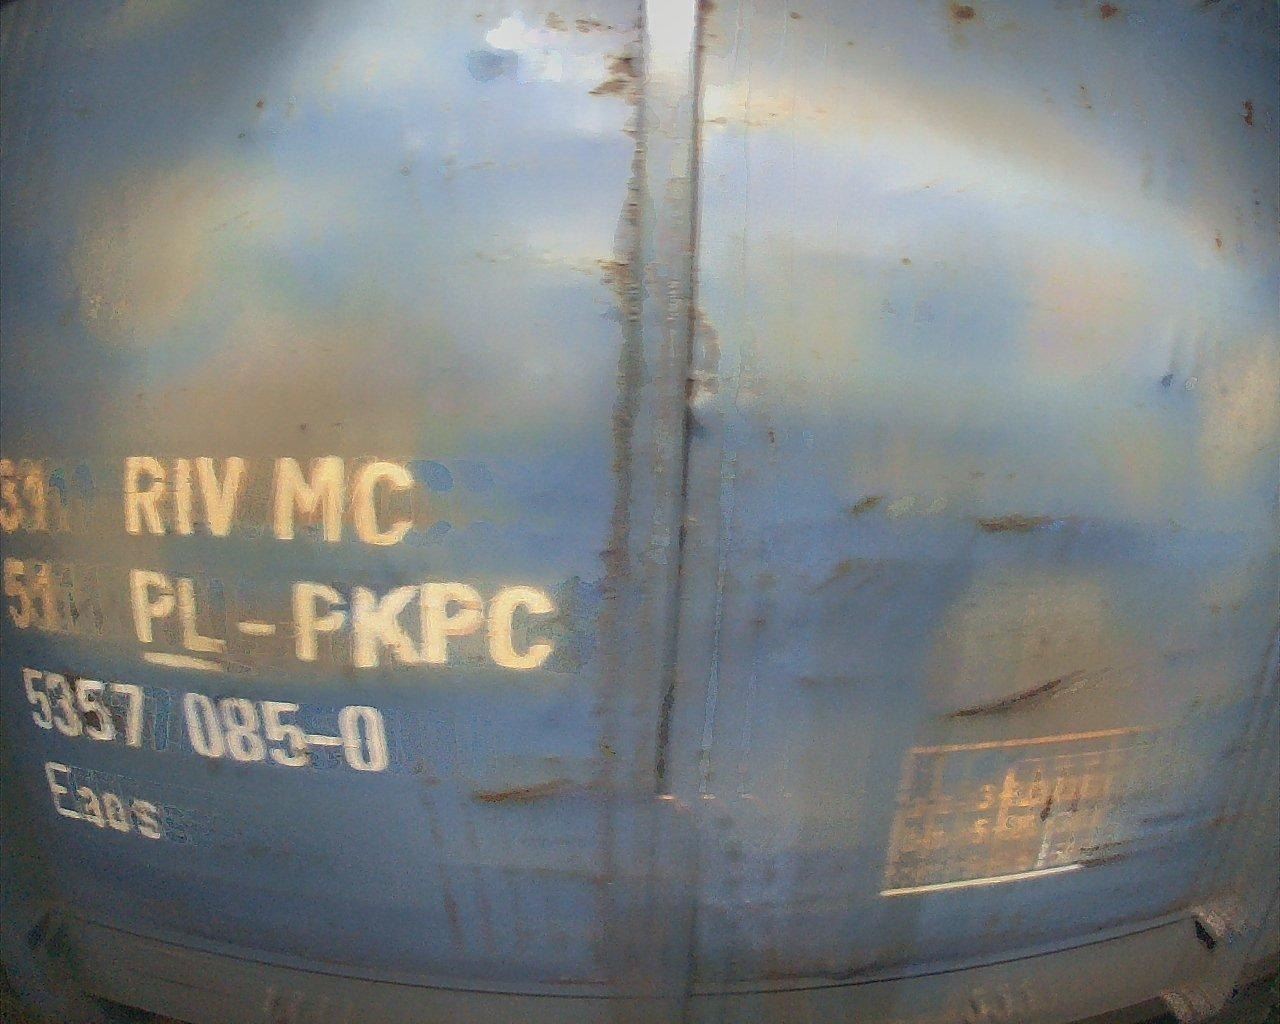UIC: (1, 447, 578, 854)
